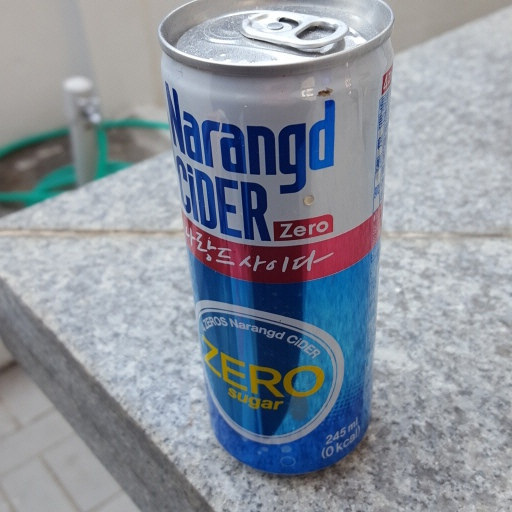Metal_0: (157, 1, 397, 476)
